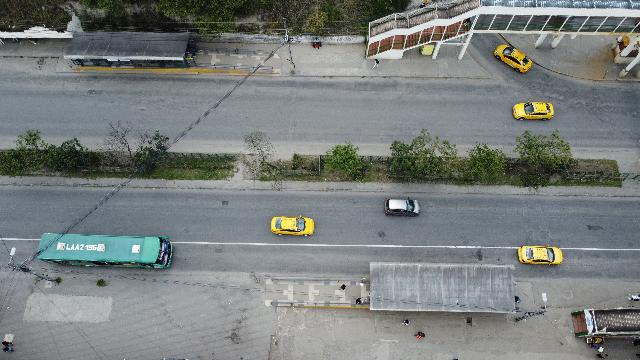Vehiculo: (494, 45, 532, 73), (270, 216, 314, 236), (518, 245, 562, 265), (512, 102, 554, 121), (384, 197, 420, 216)
